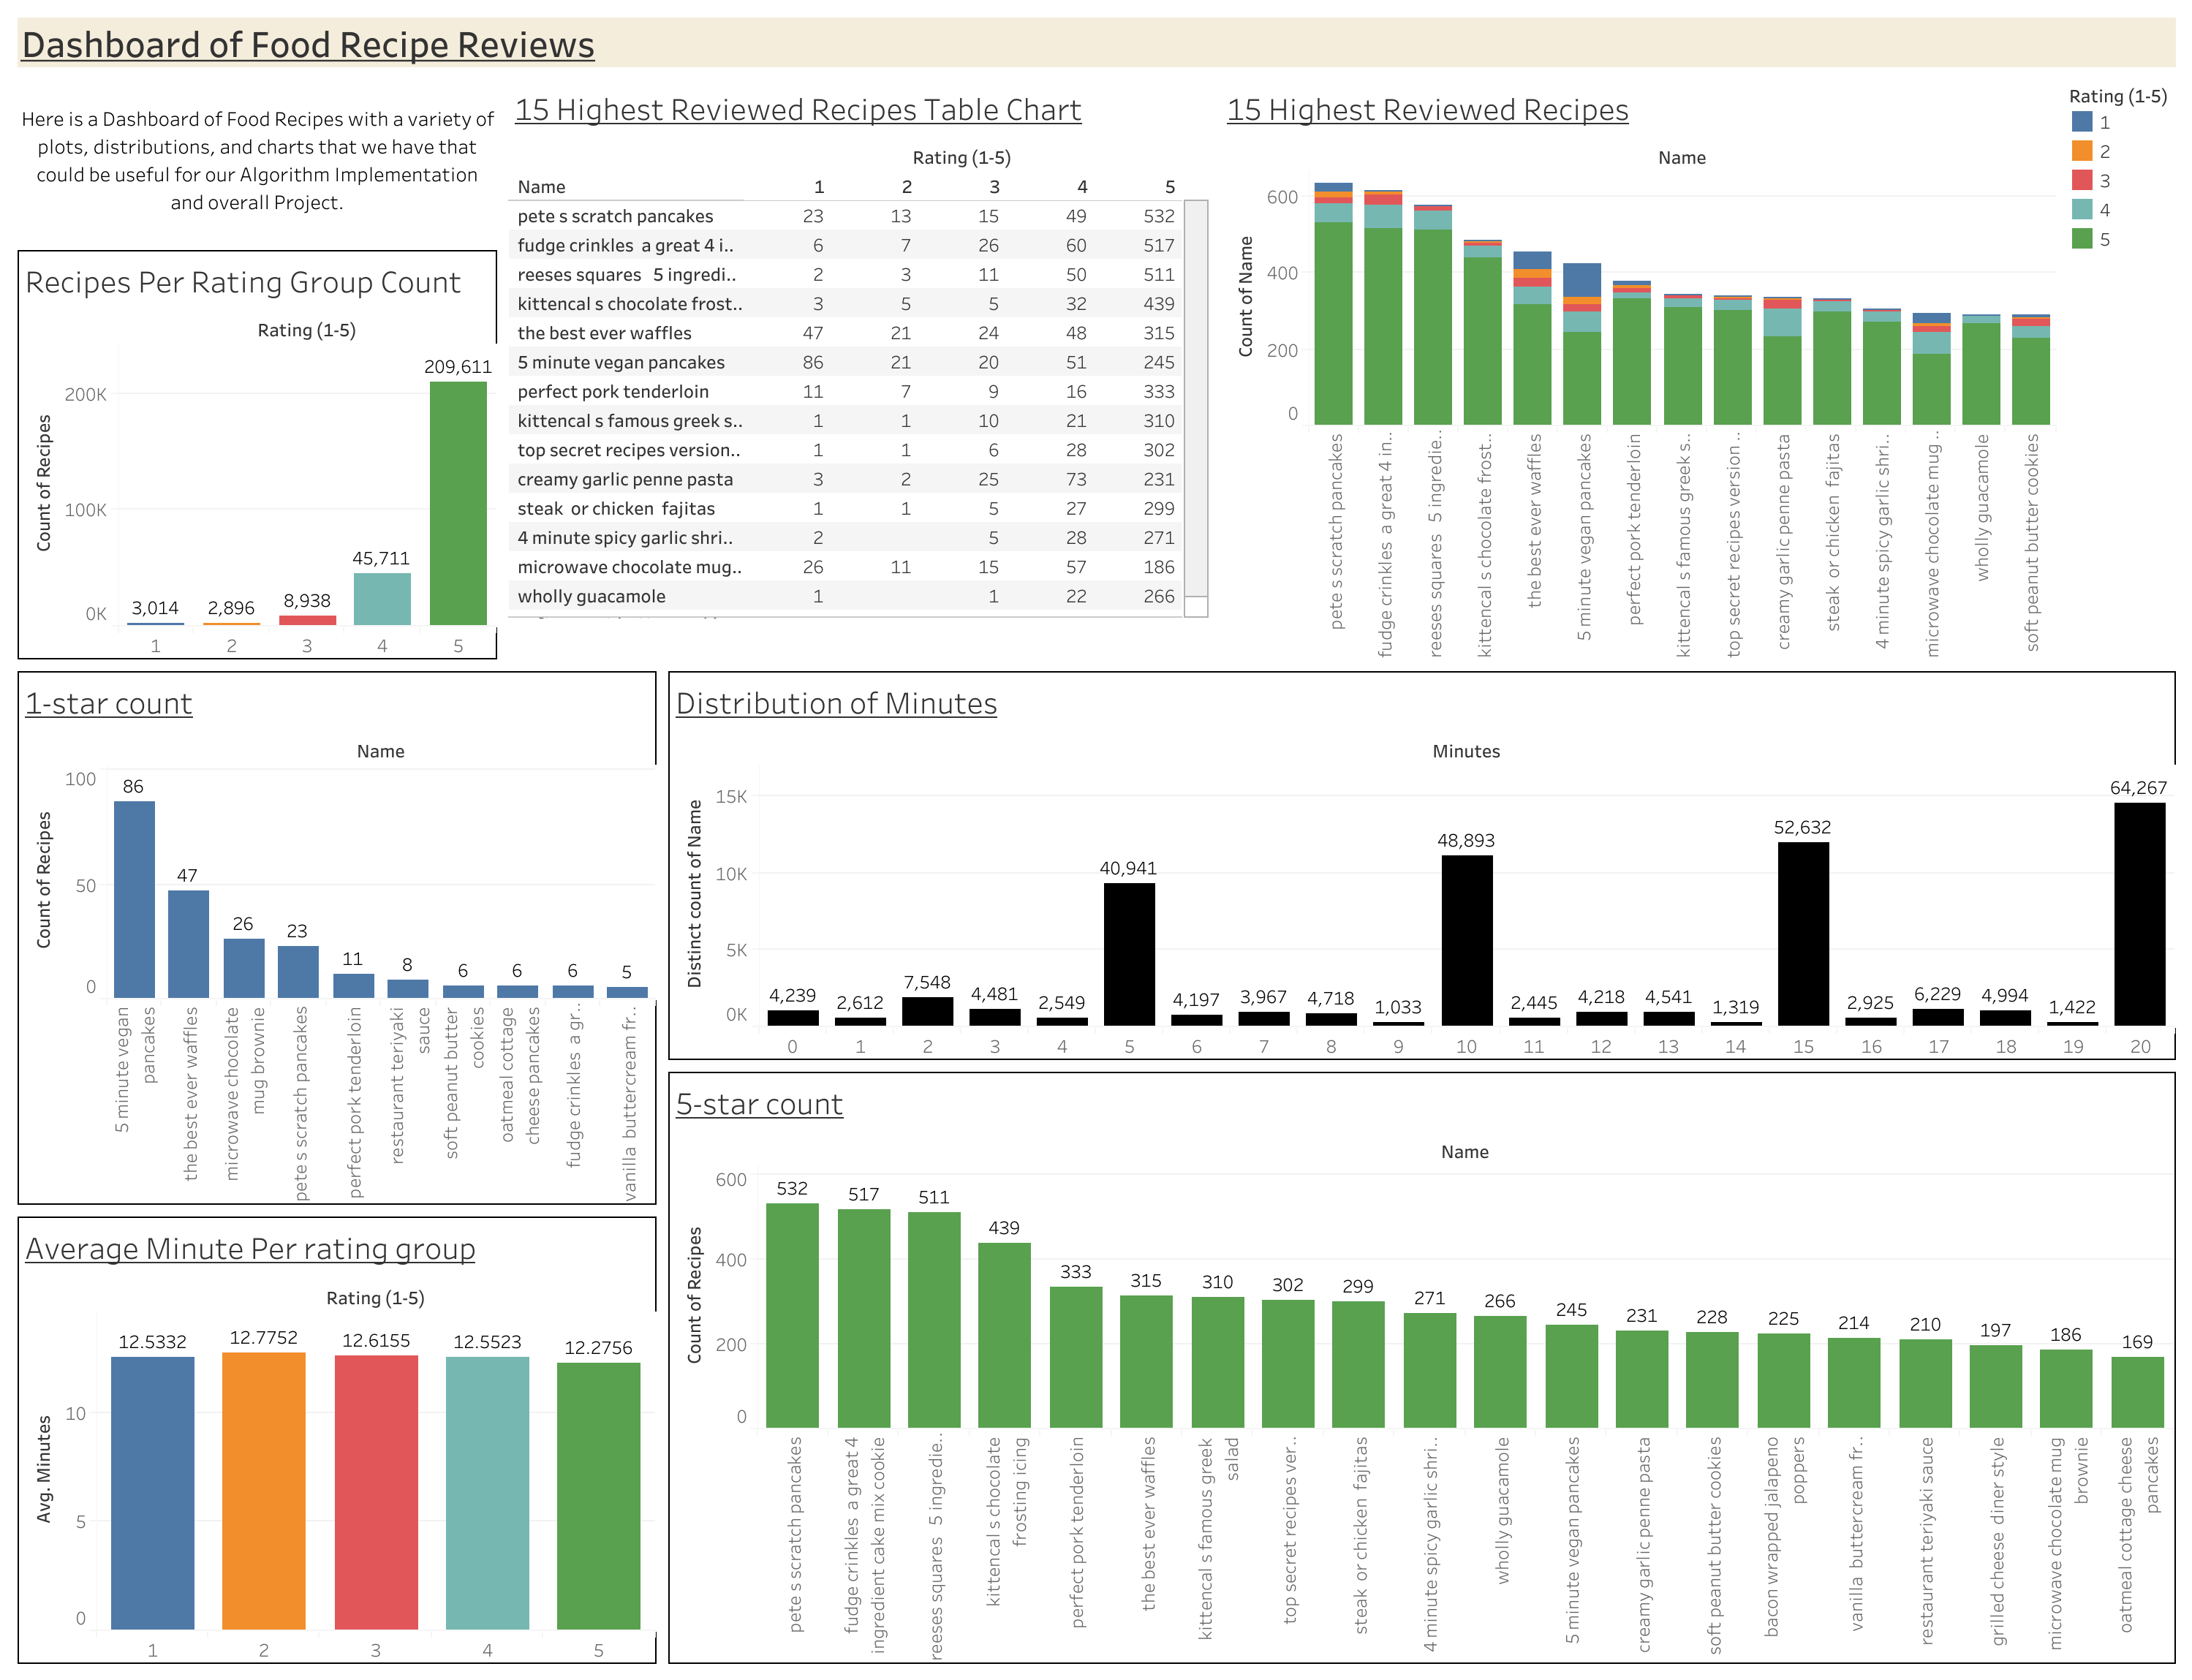

What the dashboard file says about the page in this screenshot:
{"tool":"tableau","page":{"name":"Dashboard 1","canvas":[1000,1000],"units":"permille","ordinal":0},"visuals":[{"type":"title","box":[5.3,7,989.3,35.7]},{"type":"text","box":[5.3,42.6,224,102.2]},{"type":"worksheet","title":"Most Reviewed Table","mark":"Automatic","rows":["name"],"cols":["Calculation_6070864872329217"],"box":[229.3,42.6,324.9,352.9]},{"type":"worksheet","title":"Most Reviewed","mark":"Automatic","rows":["name"],"cols":["name"],"box":[554.2,42.6,385.8,352.9]},{"type":"legend","title":"Most Reviewed","param":"[federated.011wdqd1c03k9t109fslq02w9x7j].[none:Calculation_6070864872329217:nk]","box":[940,42.6,54.7,109.6]},{"type":"worksheet","title":"Rating Group (2)","mark":"Automatic","rows":["Sheet1_0FE583B1A8E947DABB1172937FBA1A0E"],"cols":["Calculation_6070864872329217"],"box":[5.3,144.8,224,250.7]},{"type":"worksheet","title":"1-star count","mark":"Automatic","rows":["Sheet1_0FE583B1A8E947DABB1172937FBA1A0E"],"cols":["name"],"box":[5.3,395.5,296.7,324.2]},{"type":"worksheet","title":"Minutes Distribution","mark":"Bar","rows":["name"],"cols":["minutes"],"box":[302,395.5,692.7,238.1]},{"type":"worksheet","title":"5-star count","mark":"Bar","rows":["Sheet1_0FE583B1A8E947DABB1172937FBA1A0E"],"cols":["name"],"box":[302,633.6,692.7,359.5]},{"type":"worksheet","title":"Average Minutes","mark":"Bar","rows":["minutes"],"cols":["Calculation_6070864872329217"],"box":[5.3,719.7,296.7,273.4]}]}

Visuals, with their boxes on the dashboard's canvas, which has no fixed pixel size, in thousandths of its width and height (x1, y1, x2, y2). These are canvas units, not pixel positions in the 2192x1680 screenshot, which may show the page scaled, cropped or inside an application window:
title: l=5, t=7, r=995, b=43
text: l=5, t=43, r=229, b=145
"Most Reviewed Table" worksheet: l=229, t=43, r=554, b=396
"Most Reviewed" worksheet: l=554, t=43, r=940, b=396
"Most Reviewed" legend: l=940, t=43, r=995, b=152
"Rating Group (2)" worksheet: l=5, t=145, r=229, b=396
"1-star count" worksheet: l=5, t=396, r=302, b=720
"Minutes Distribution" worksheet (Bar marks): l=302, t=396, r=995, b=634
"5-star count" worksheet (Bar marks): l=302, t=634, r=995, b=993
"Average Minutes" worksheet (Bar marks): l=5, t=720, r=302, b=993
